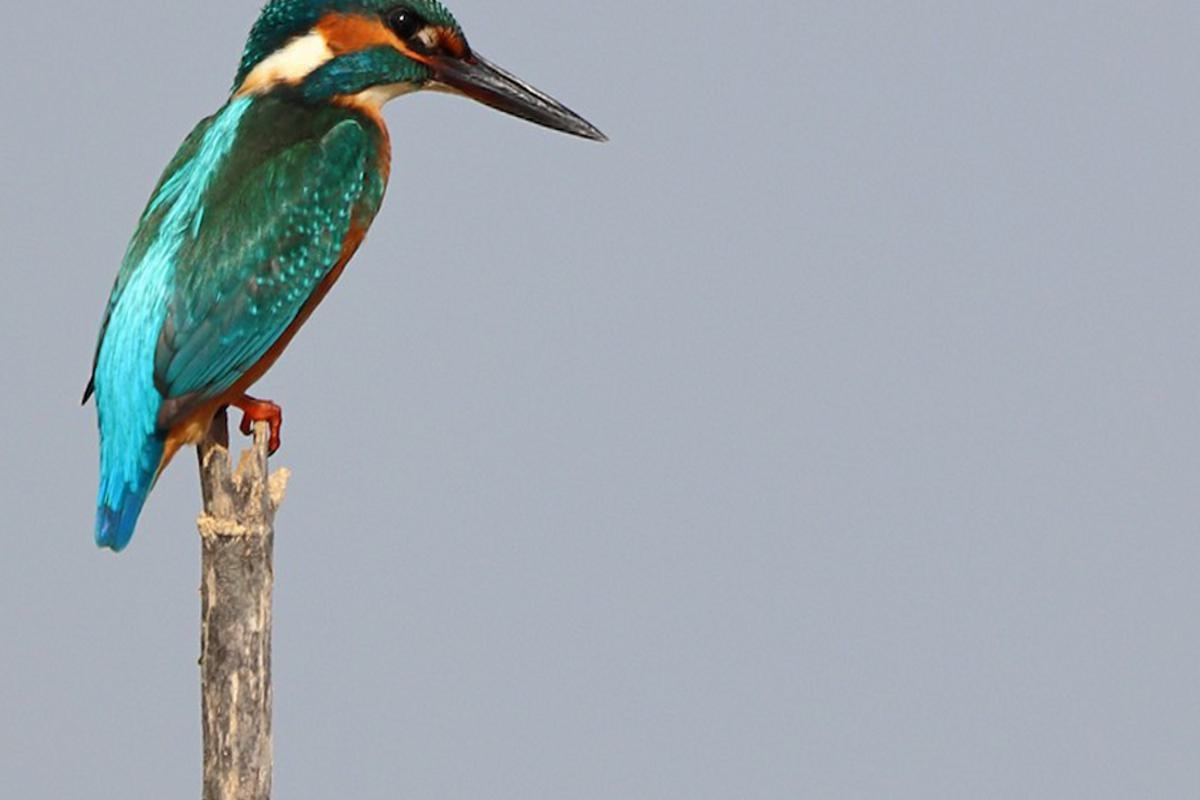kingfisher: (78, 1, 630, 538)
